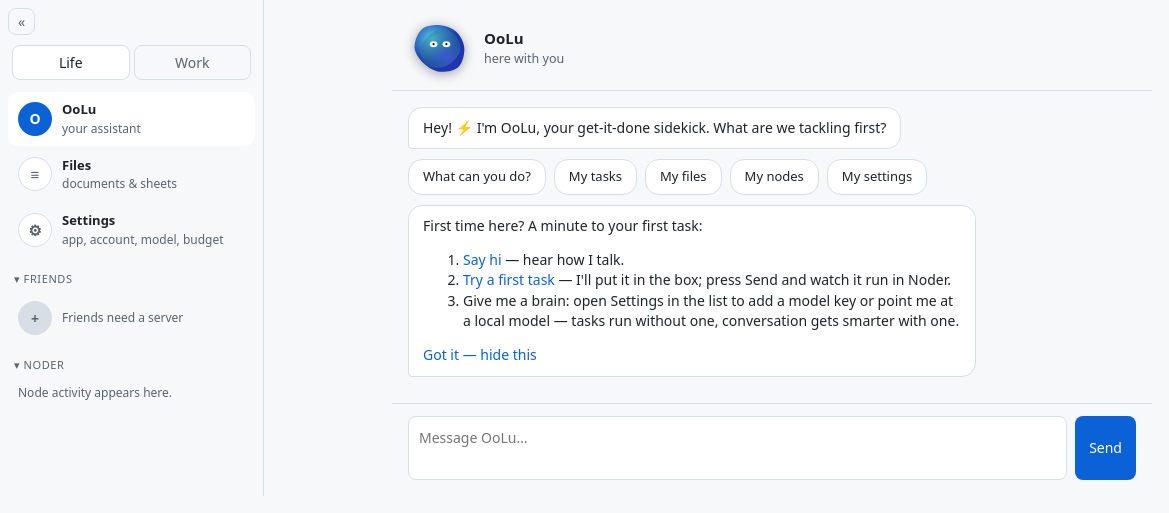
Scenario: Life › keeps the honest placeholder on hosts without a friends door
Click the text "Friends need a server": click(123, 318) 62,309 -> 183,327
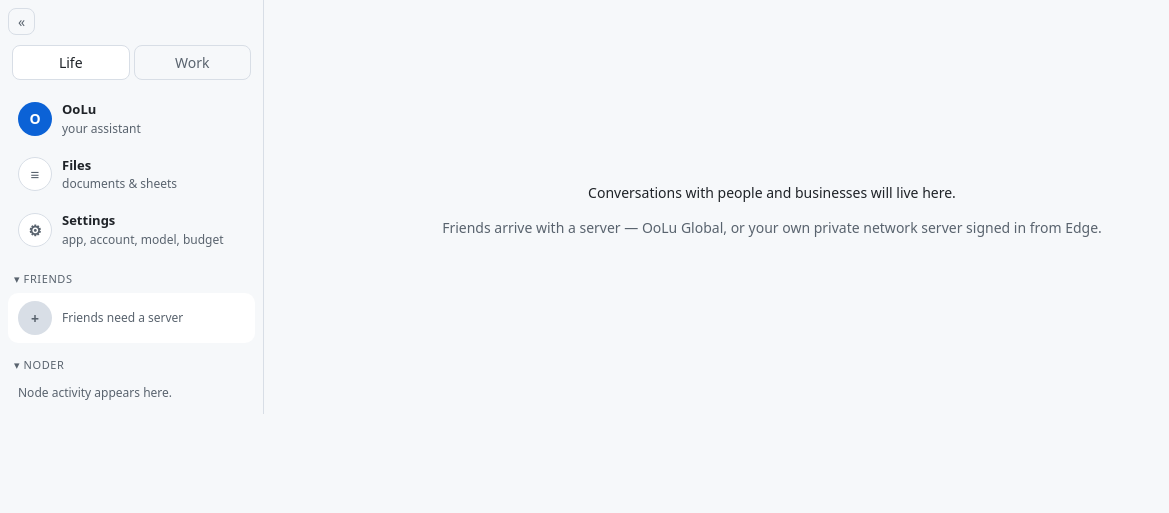
expect the text "Conversations with people and businesses will live here." is shown: met, box 588,183 -> 956,202
